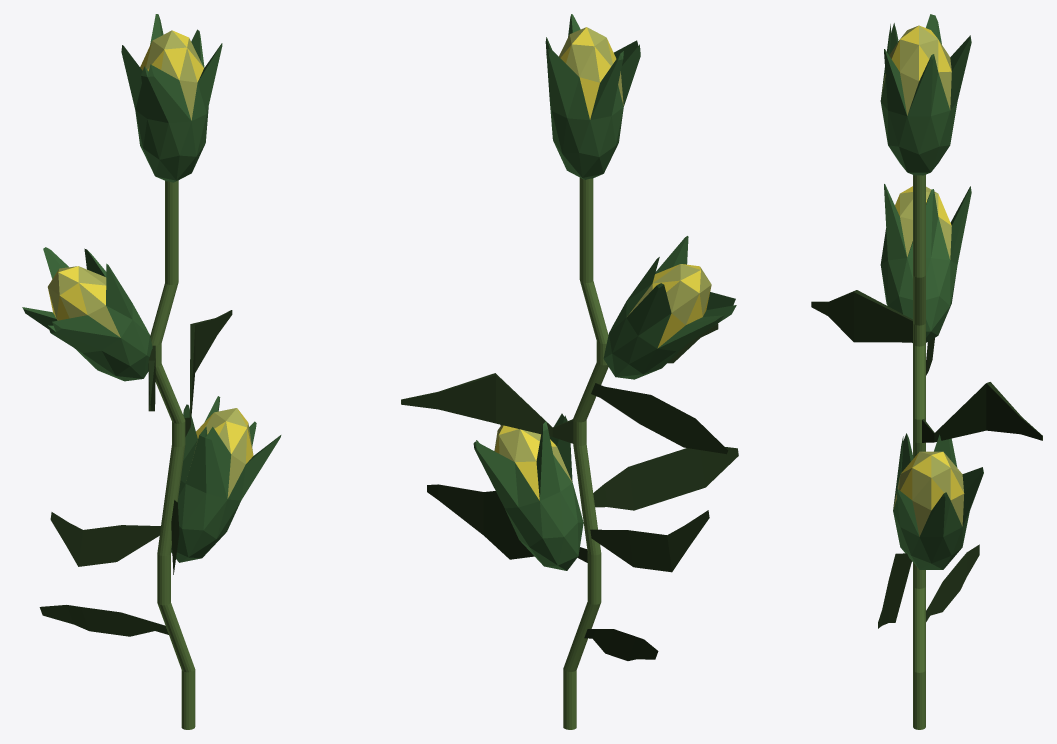
File: milhao2.fbx
3 renders of one model, left to right at view 1: azimuth 30°, elevation 25°; view 2: azimuth 150°, elevation 25°; view 3: azimuth 270°, elevation 25°, orthographic.
Parts seen in each view (by area): view 1: Cylinder; view 2: Cylinder; view 3: Cylinder.
Boxes of the visible parts, x1,y1,x2,y2 form: Cylinder: (22,14,281,729); Cylinder: (401,14,738,729); Cylinder: (811,14,1042,729).
Bounding box in the file's own units: 184 × 374 × 135.
